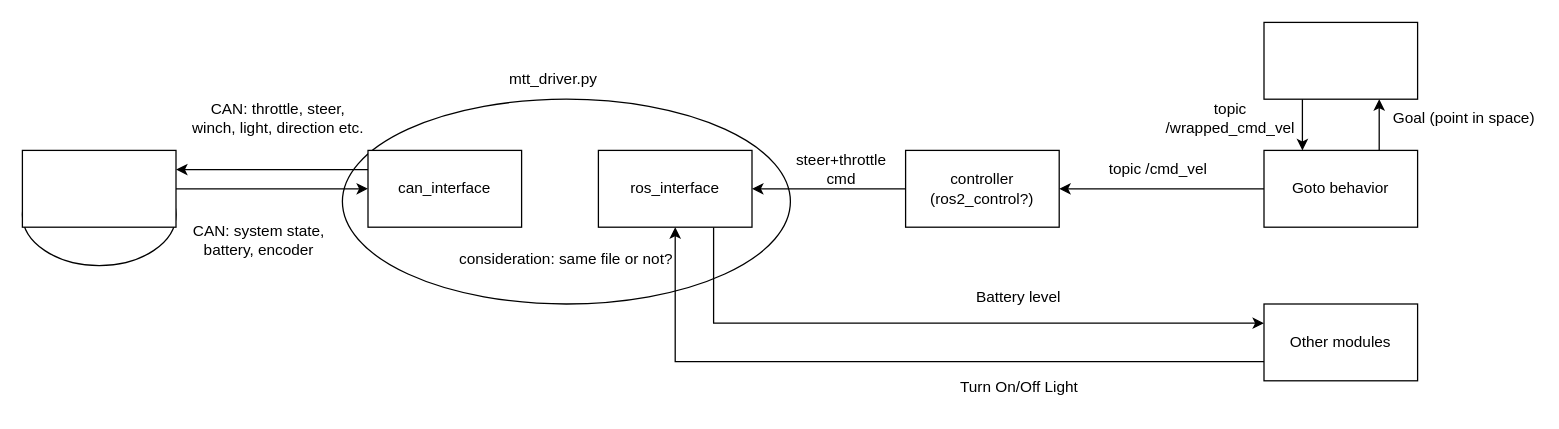
This 1559x429 diagram has some shape labels left out. Each missing label, with the centre of its shape:
"mtt" belongs at pixel 98 188.
"Navigation Stack ex: nav2" belongs at pixel 1340 60.
